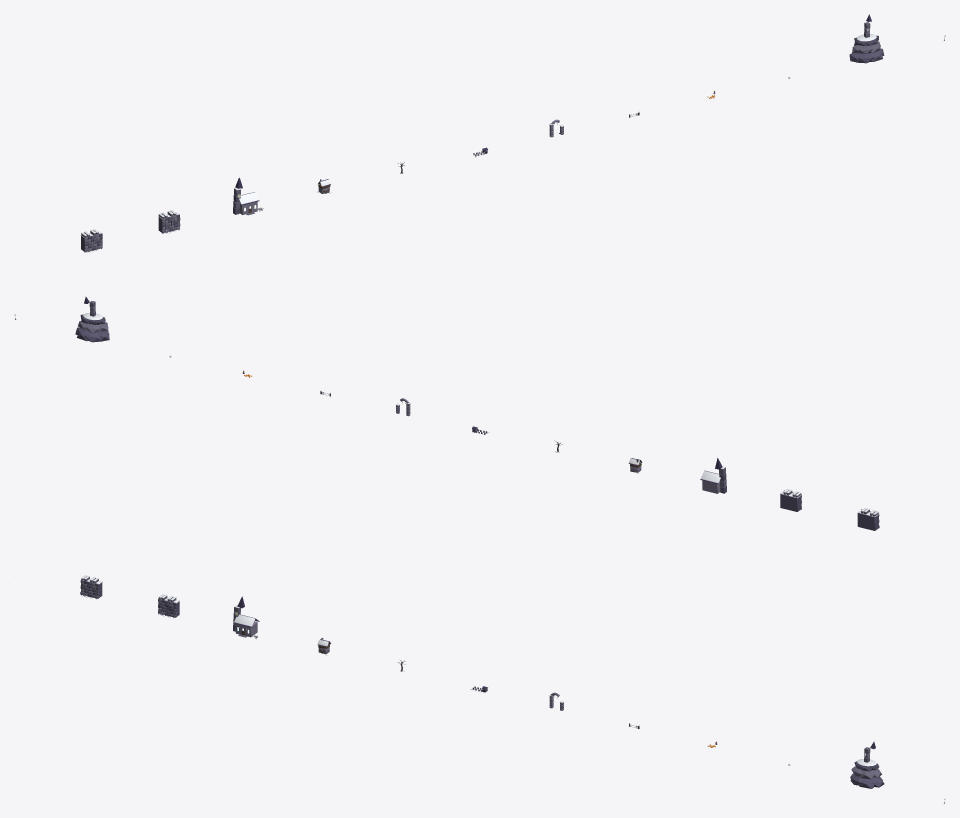
The model's file is W1_Cursed.fbx.
3 renders of one model, top to bottom at view 1: azimuth 30°, elevation 25°; view 2: azimuth 150°, elevation 25°; view 3: azimuth 330°, elevation 25°, orthographic.
Size of the model in its own units: 1442 by 64.3 by 37.44.
